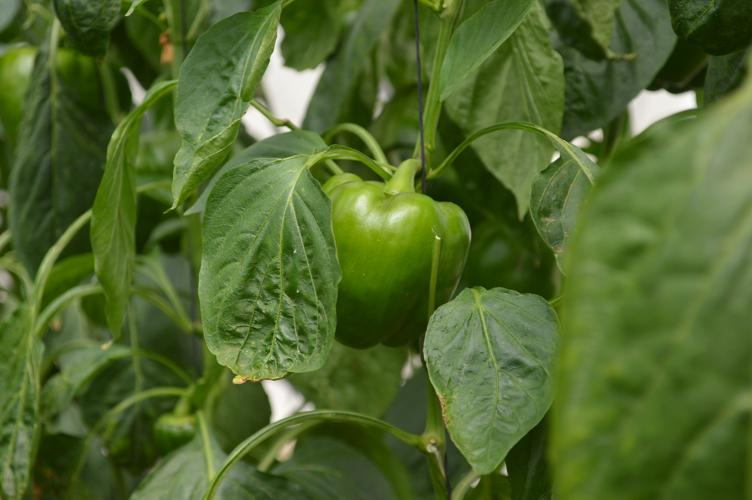BellPepper: (323, 169, 468, 356)
